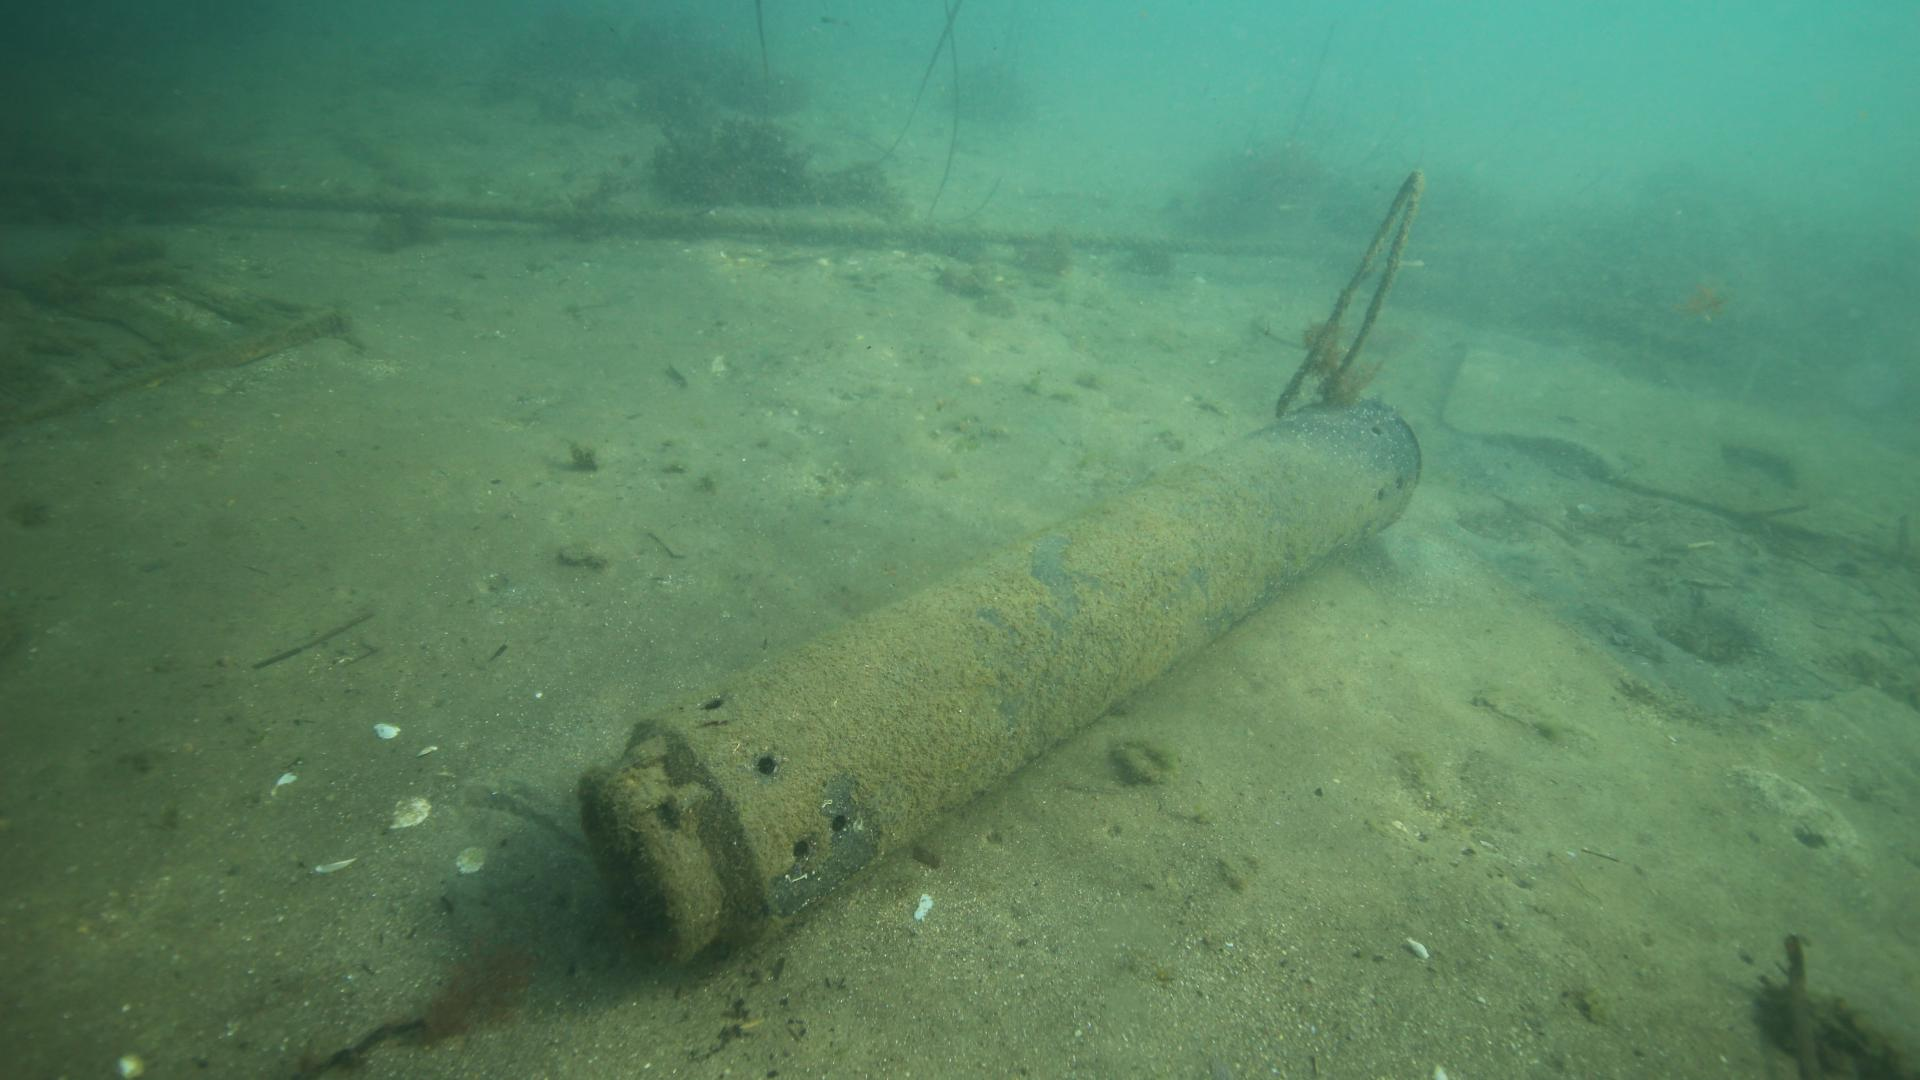eel fish trap: (570, 382, 1422, 961)
rope: (0, 164, 1437, 258), (1273, 166, 1424, 414)
